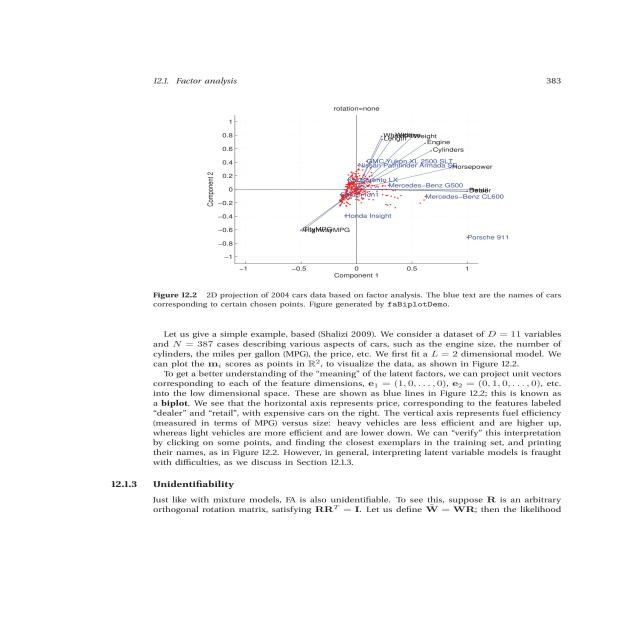diagram: (122, 62, 572, 323)
